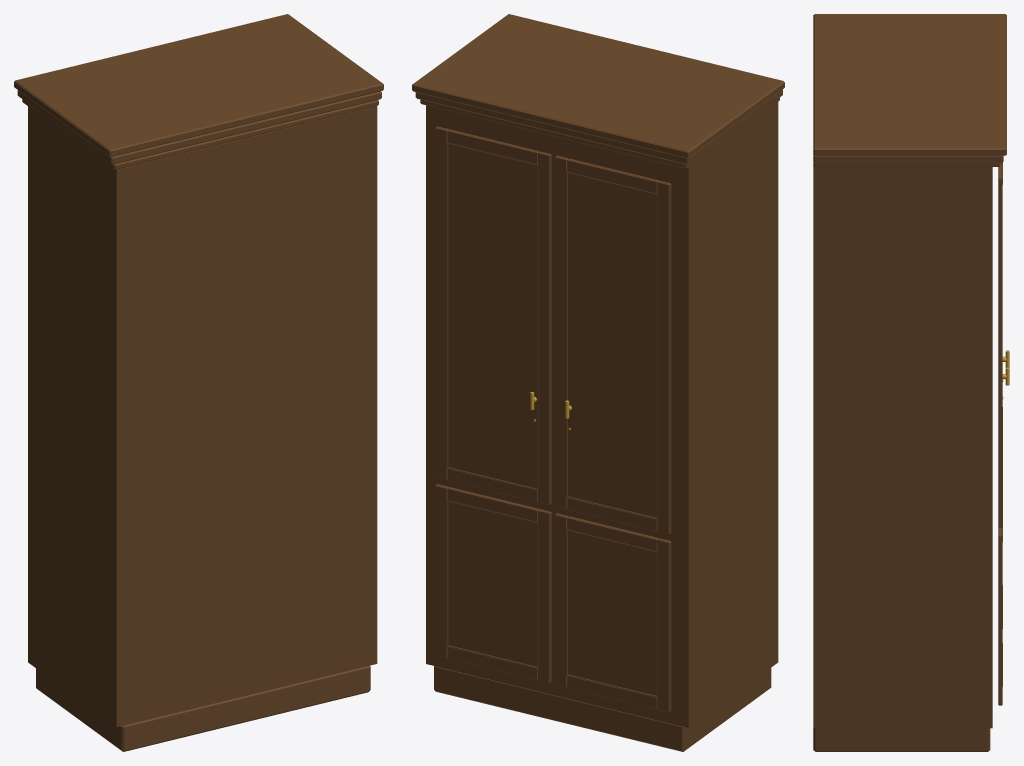
File: parametric-wardrobe-1st-pub.glb
The picture shows the model from 3 angles, left to right: view 1: azimuth 30°, elevation 25°; view 2: azimuth 150°, elevation 25°; view 3: azimuth 270°, elevation 25°; orthographic projection.
Visible parts, largest first — view 1: parametric-wardrobe-1st-pub; view 2: parametric-wardrobe-1st-pub; view 3: parametric-wardrobe-1st-pub.
Boxes of the visible parts, x1=… form: parametric-wardrobe-1st-pub: x1=14, y1=14, x2=383, y2=751; parametric-wardrobe-1st-pub: x1=412, y1=14, x2=784, y2=751; parametric-wardrobe-1st-pub: x1=813, y1=14, x2=1009, y2=751.
Size of the model in its own units: 0.95 by 2 by 0.5827.
